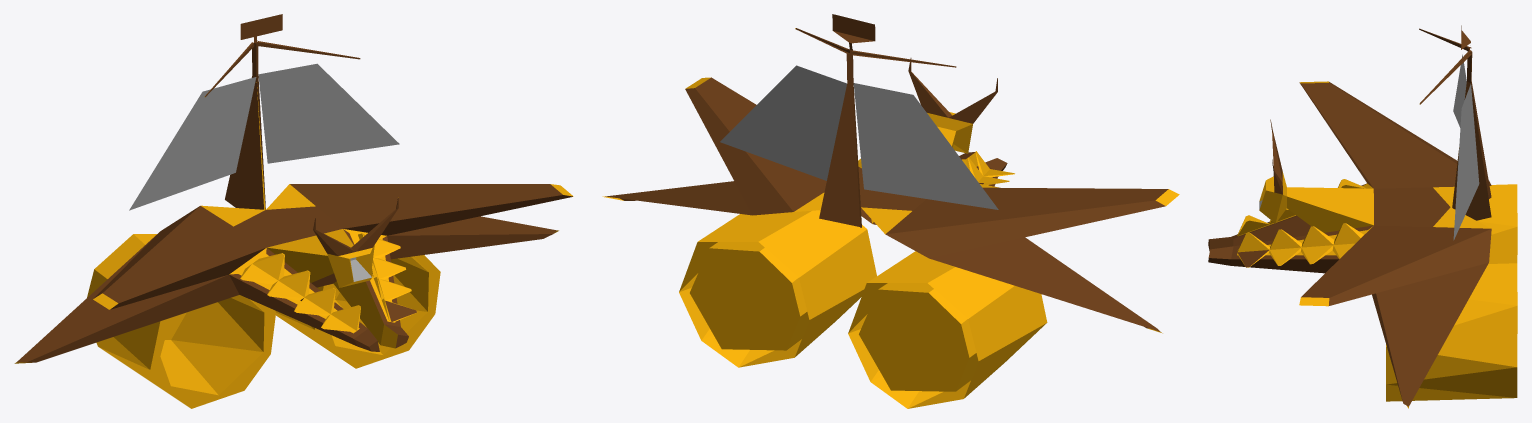
Rendered from enemy.fbx.
3 views of the same model, side by side, from view 1: azimuth 30°, elevation 25°; view 2: azimuth 150°, elevation 25°; view 3: azimuth 270°, elevation 25° (orthographic). The views are drawn at different scales.
Parts seen in each view (by area): view 1: Enemy Ship; view 2: Enemy Ship; view 3: Enemy Ship.
Part boxes in pixels (x1,y1,x2,y2): Enemy Ship: (14,14,573,408); Enemy Ship: (602,14,1179,408); Enemy Ship: (1208,25,1517,408).
Bounding box in the file's own units: 6949 × 4119 × 3462.
